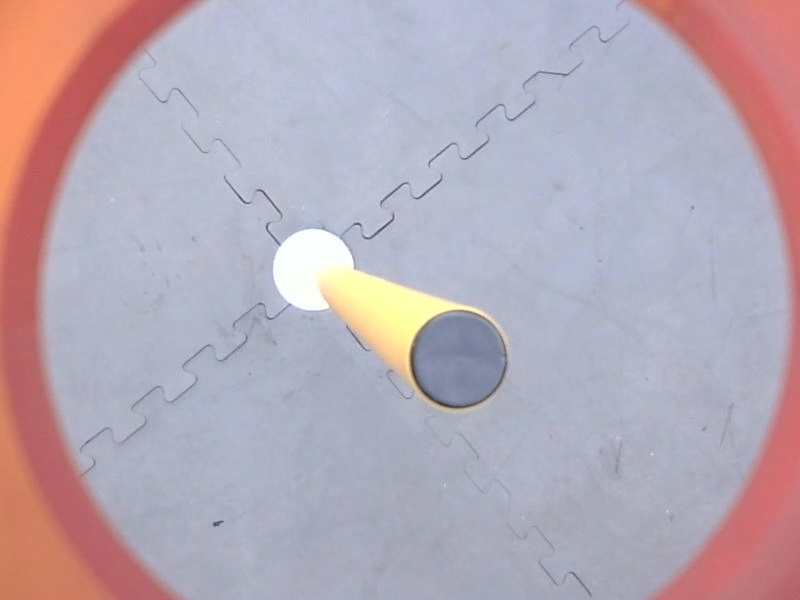tip: (403, 302, 516, 420)
